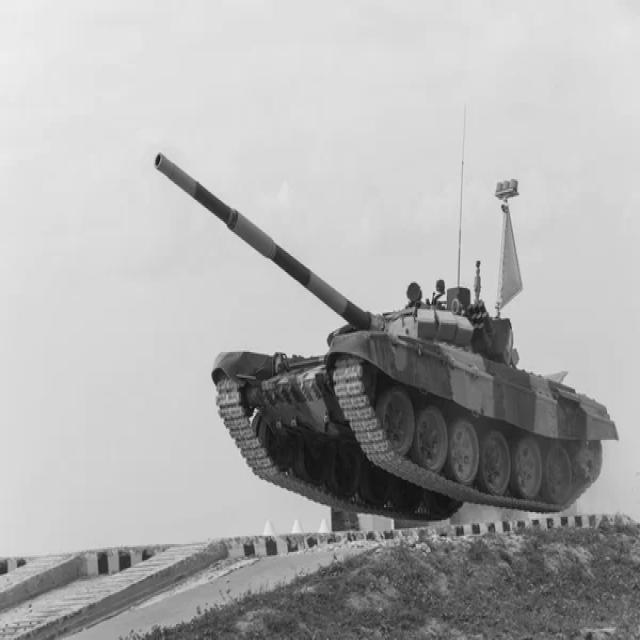Tank: (146, 144, 625, 521)
